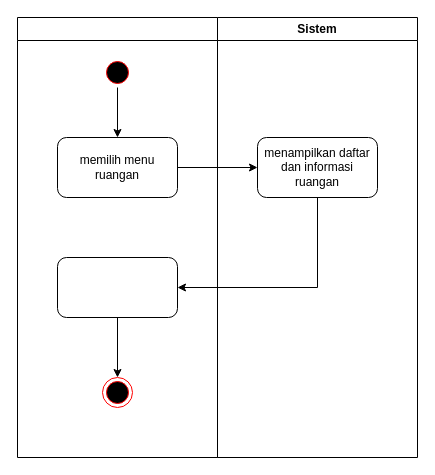
Some shapes in this 435 by 475 pixel diagram are drawn without their labels. Each missing label, with the box of its shape:
Mahasiswa: (16, 16, 218, 458)
melihat informasi ruangan: (56, 256, 178, 318)
